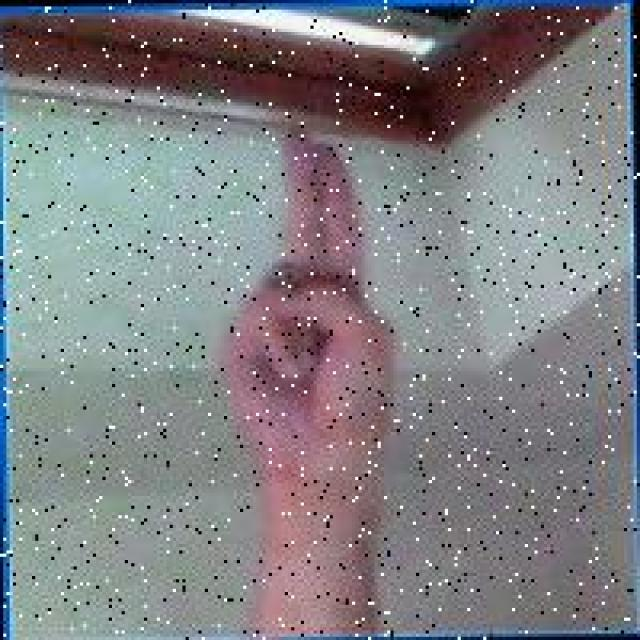U: (213, 118, 408, 477)
